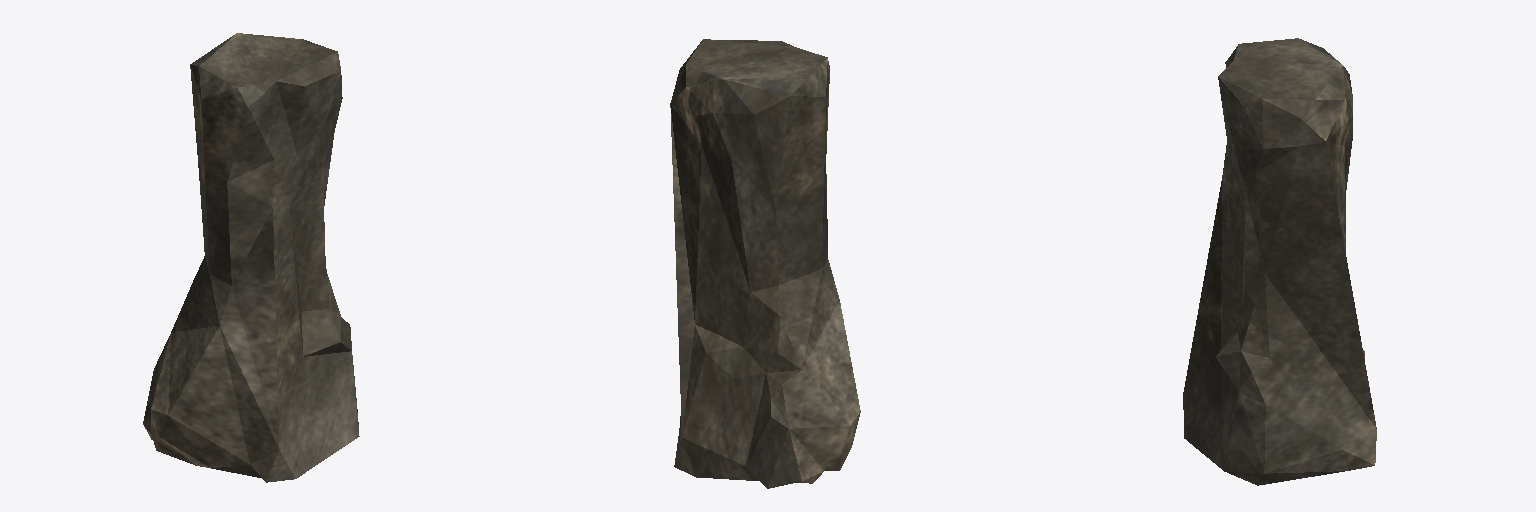
The picture shows the model from 3 angles: view 1: azimuth 30°, elevation 25°; view 2: azimuth 150°, elevation 25°; view 3: azimuth 270°, elevation 25°; orthographic projection.
Parts seen in each view (by area): view 1: RockSet05A; view 2: RockSet05A; view 3: RockSet05A.
Part boxes in pixels (x1,y1,x2,y2): RockSet05A: (143,33,359,482); RockSet05A: (670,39,860,488); RockSet05A: (1183,38,1376,485).
Bounding box in the file's own units: 10.6 × 21.24 × 9.49.
1 materials, 1 textured.